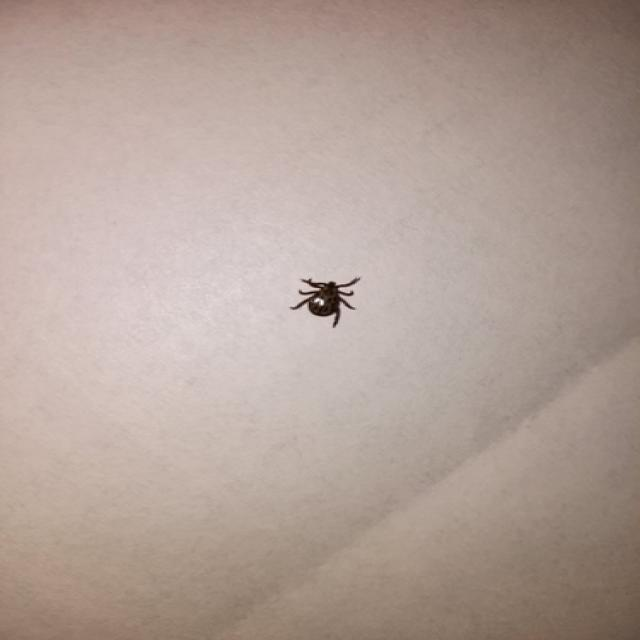Dermacentor Reticulatus-M: (290, 274, 358, 329)
